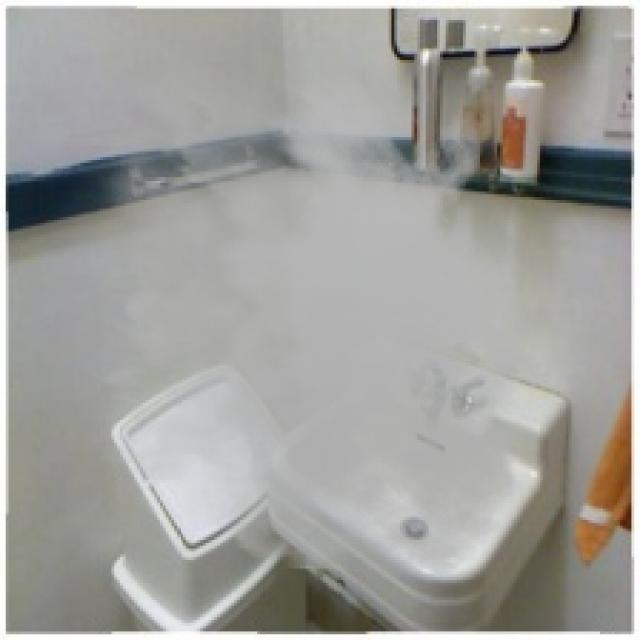smoke: (40, 20, 569, 583)
